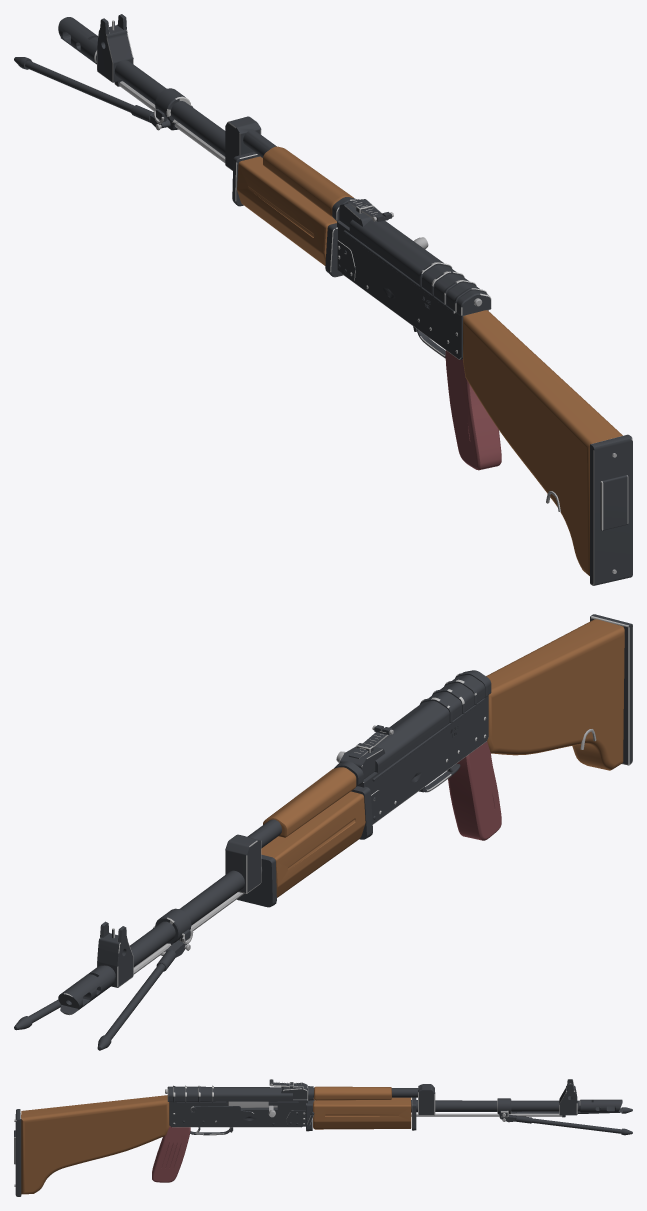
The model's file is rpk74.glb.
3 views of the same model, one above another, from view 1: azimuth 30°, elevation 25°; view 2: azimuth 150°, elevation 25°; view 3: azimuth 270°, elevation 25° (orthographic). The views are drawn at different scales.
Parts seen in each view (by area): view 1: static, bipod; view 2: static, bipod; view 3: static, bipod, selector, bolt_carrier.
Boxes of the visible parts, x1,y1,x2,y2 form: static: (58, 14, 632, 585); bipod: (14, 57, 170, 127); static: (58, 614, 632, 1015); bipod: (14, 940, 187, 1050); static: (14, 1079, 622, 1196); bipod: (502, 1107, 632, 1135); selector: (190, 1106, 253, 1115); bolt_carrier: (228, 1101, 277, 1117).
Bounding box in the file's own units: 0.1065 × 0.2263 × 1.15.
